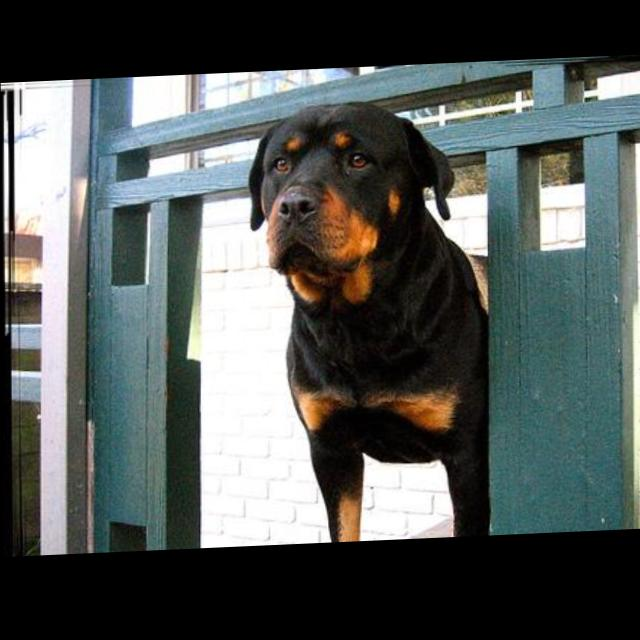rottweiler: (247, 99, 491, 549)
